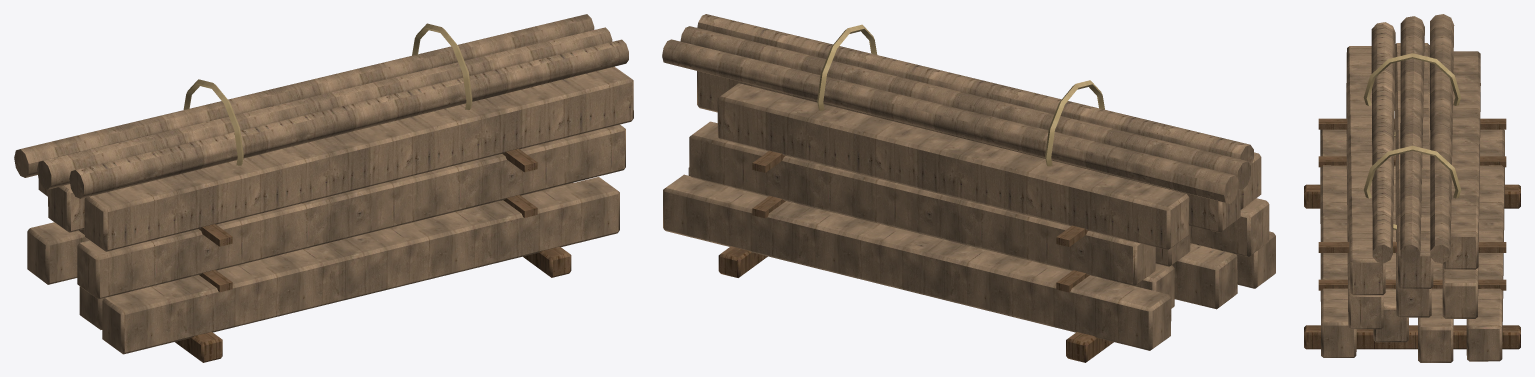
The model's file is build_timber-stack_t1.glb.
3 renders of one model, left to right at view 1: azimuth 30°, elevation 25°; view 2: azimuth 150°, elevation 25°; view 3: azimuth 270°, elevation 25°, orthographic. The views are drawn at different scales.
Visible parts, largest first — view 1: wood, wood_dark, rope; view 2: wood, wood_dark, rope; view 3: wood, wood_dark, rope.
Boxes of the visible parts, <box> form: wood: <box>14,14,633,354</box>; wood_dark: <box>175,148,571,362</box>; rope: <box>183,23,472,165</box>; wood: <box>662,14,1275,350</box>; wood_dark: <box>718,150,1113,362</box>; rope: <box>817,24,1104,166</box>; wood: <box>1320,14,1504,362</box>; wood_dark: <box>1304,118,1520,349</box>; rope: <box>1363,53,1461,229</box>.
Size of the model in its own units: 2.6 by 0.944 by 1.04.
3 materials, 3 textured.
